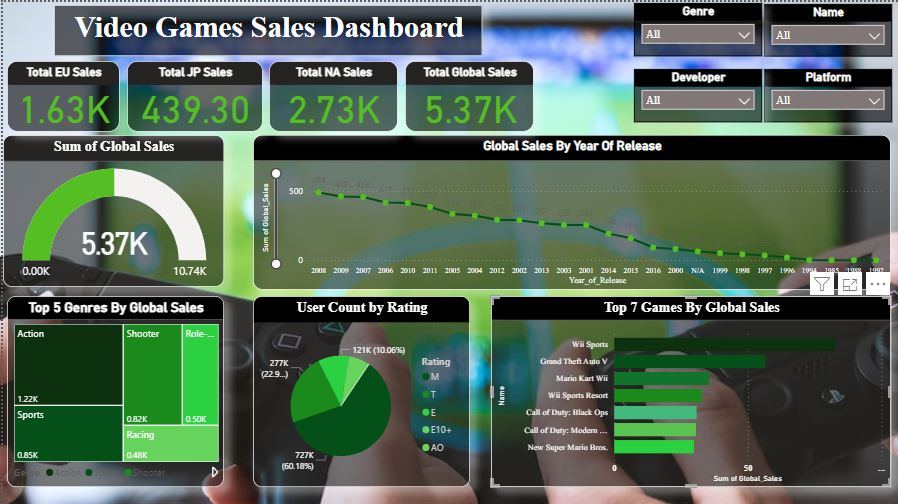

The dashboard page shown, as its layout file describes it:
{"tool":"powerbi","page":{"name":"Page 1","canvas":[1280,720],"ordinal":0},"visuals":[{"type":"textbox","title":"fdgdg","box":[73.3,4.3,612.2,73.3],"z":0},{"type":"lineChart","title":"Global Sales By Year Of Release","fields":{"Category":["Video_Games_Sales (2).Year_of_Release"],"Y":["Sum(Video_Games_Sales (2).Global_Sales)"]},"box":[357.8,189.7,911.1,221.3],"z":1000},{"type":"pieChart","title":"User Count by Rating","fields":{"Category":["Video_Games_Sales (2).Rating"],"Y":["Sum(Video_Games_Sales (2).User_Count)"]},"box":[357.1,420,310,272.9],"z":2000},{"type":"barChart","title":"Top 7 Games By Global Sales","fields":{"Category":["Video_Games_Sales (2).Name"],"Y":["Sum(Video_Games_Sales (2).Global_Sales)"]},"box":[697,419.6,572,273.1],"z":4000},{"type":"treemap","title":"Top 5 Genres By Global Sales","fields":{"Group":["Video_Games_Sales (2).Genre"],"Values":["Sum(Video_Games_Sales (2).Global_Sales)"]},"box":[5.7,420,310,272.9],"z":5000},{"type":"gauge","title":"Sum of Global Sales","fields":{"Y":["Sum(Video_Games_Sales (2).Global_Sales)"]},"box":[0,190,315.7,217.1],"z":6000},{"type":"card","title":"Total EU Sales","fields":{"Values":["Sum(Video_Games_Sales (2).EU_Sales)"]},"box":[5.7,84.3,161.4,101.4],"z":7000},{"type":"card","title":"Total JP Sales","fields":{"Values":["Sum(Video_Games_Sales (2).JP_Sales)"]},"box":[177.1,84.3,194.3,101.4],"z":8000},{"type":"card","title":"Total NA Sales","fields":{"Values":["Sum(Video_Games_Sales (2).NA_Sales)"]},"box":[380,84.3,184.3,101.4],"z":9000},{"type":"card","title":"Total Global Sales","fields":{"Values":["Sum(Video_Games_Sales (2).Global_Sales)"]},"box":[574.3,84.3,184.3,101.4],"z":10000},{"type":"slicer","title":"Platform","fields":{"Values":["Video_Games_Sales (2).Platform"]},"box":[1086.5,96.3,182.5,76.2],"z":12000},{"type":"slicer","title":"Developer","fields":{"Values":["Video_Games_Sales (2).Developer"]},"box":[901.1,96.3,182.5,76.2],"z":13000},{"type":"slicer","title":"Name","fields":{"Values":["Video_Games_Sales (2).Name"]},"box":[1086.5,2.9,182.5,74.7],"z":14000},{"type":"slicer","title":"Genre","fields":{"Values":["Video_Games_Sales (2).Genre"]},"box":[901.1,1.4,182.5,76.2],"z":15000}]}

Visuals, with their boxes in screenshot pixels (x1, y1, x2, y2), scaled from the page's 1280x720 canvas onto the 898x504 screenshot:
"fdgdg" textbox: box(51, 3, 481, 54)
"Global Sales By Year Of Release" lineChart: box(251, 133, 890, 288)
"User Count by Rating" pieChart: box(251, 294, 468, 485)
"Top 7 Games By Global Sales" barChart: box(489, 294, 890, 485)
"Top 5 Genres By Global Sales" treemap: box(4, 294, 221, 485)
"Sum of Global Sales" gauge: box(0, 133, 221, 285)
"Total EU Sales" card: box(4, 59, 117, 130)
"Total JP Sales" card: box(124, 59, 261, 130)
"Total NA Sales" card: box(267, 59, 396, 130)
"Total Global Sales" card: box(403, 59, 532, 130)
"Platform" slicer: box(762, 67, 890, 121)
"Developer" slicer: box(632, 67, 760, 121)
"Name" slicer: box(762, 2, 890, 54)
"Genre" slicer: box(632, 1, 760, 54)
